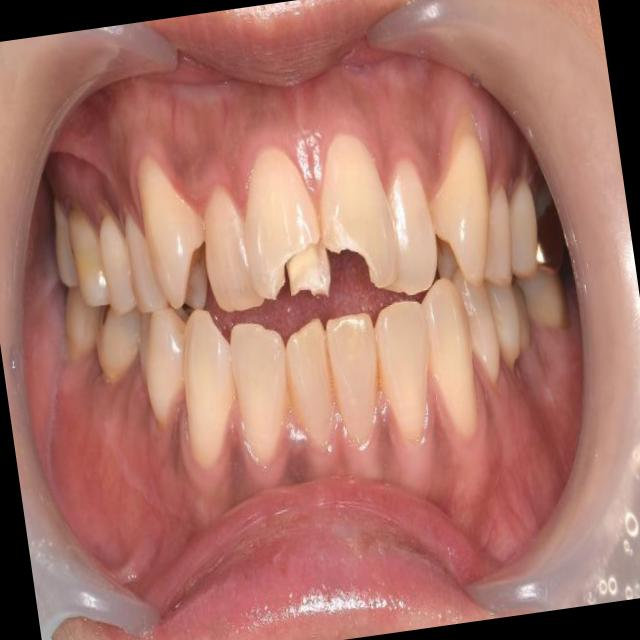Crack: (324, 206, 377, 286), (273, 233, 330, 299)
Tooth: (246, 148, 330, 300), (320, 134, 399, 288), (138, 153, 208, 310), (429, 136, 489, 288), (421, 278, 477, 437), (183, 309, 236, 468), (230, 323, 290, 463), (204, 187, 264, 313), (385, 157, 438, 296), (375, 302, 430, 433), (140, 303, 197, 428), (326, 313, 378, 440), (286, 318, 334, 444), (452, 268, 501, 383), (125, 212, 169, 314), (68, 208, 111, 307), (484, 280, 531, 370), (94, 303, 142, 380), (100, 215, 137, 314), (484, 183, 513, 288)
